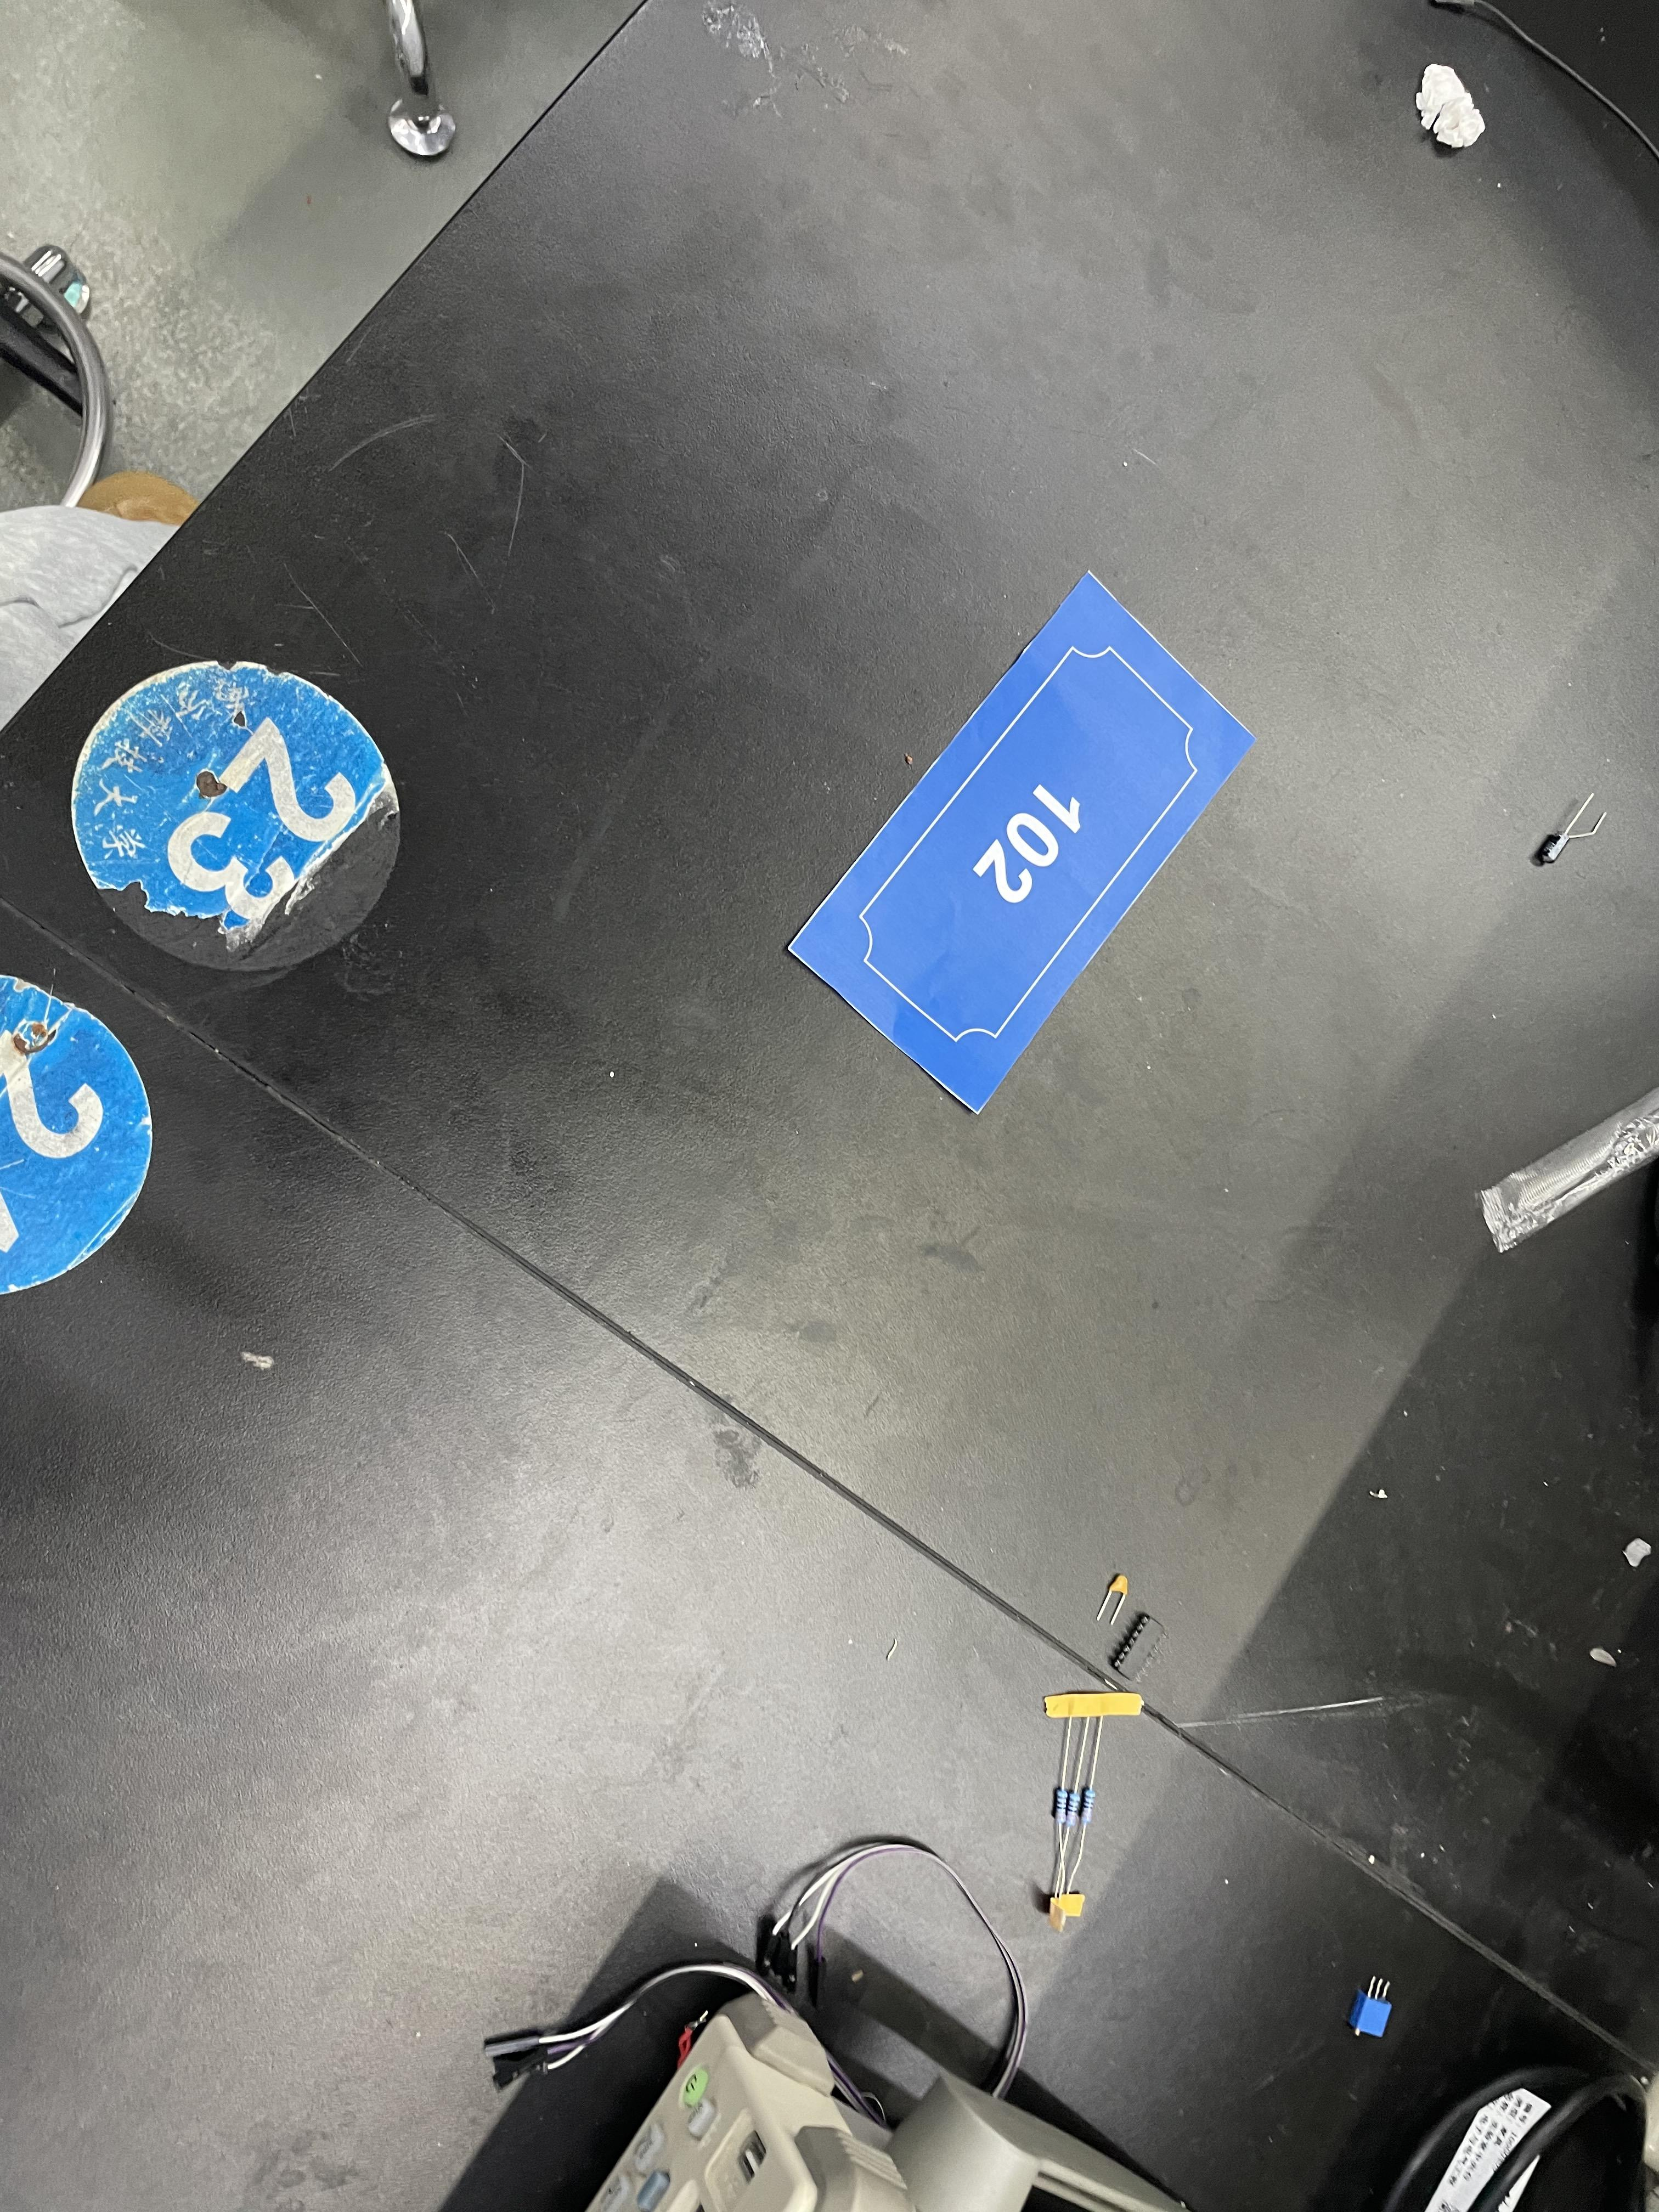Card: (730, 517, 1284, 1148)
